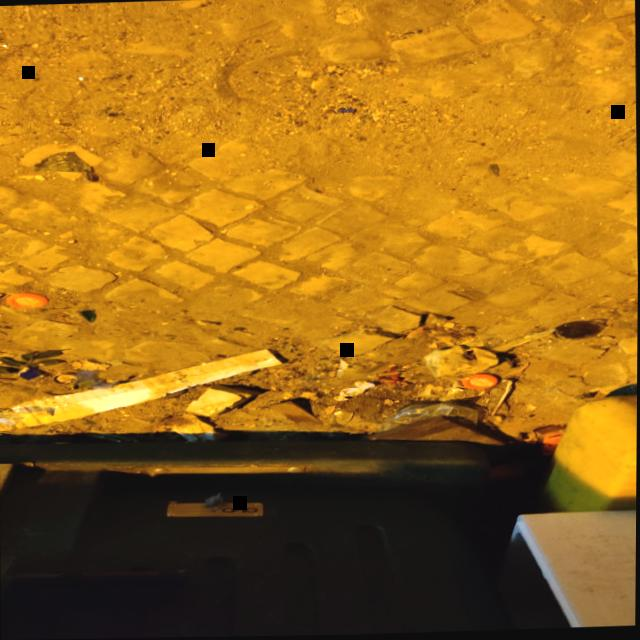Broken glass: (79, 310, 96, 322)
Corrugated carton: (0, 349, 282, 432)
Metal lid: (554, 323, 595, 342), (5, 291, 48, 309), (462, 376, 498, 390)
Other plastic: (338, 382, 376, 402)
Plastic film: (373, 405, 478, 435)
Unlabeled litter: (53, 373, 76, 382)
